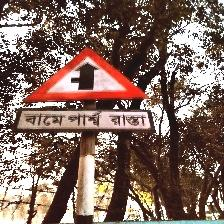Side-road-left: (16, 47, 153, 133)
